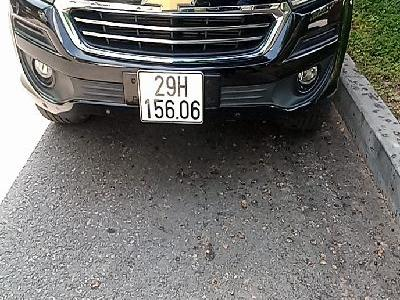car: (137, 70, 204, 125)
